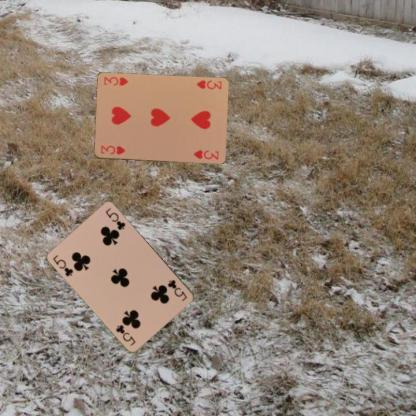3h: (194, 77, 223, 91), (98, 143, 126, 156)
5c: (51, 252, 74, 277), (166, 277, 188, 302)
